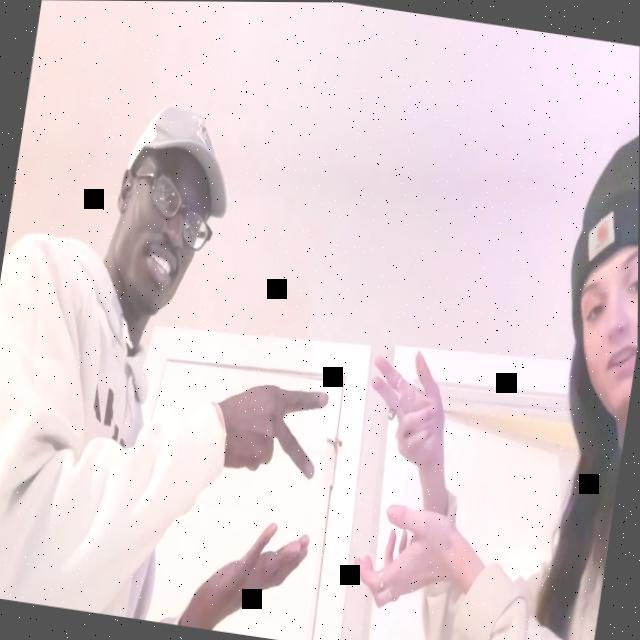Scissors: (208, 377, 331, 486), (361, 345, 450, 467)
